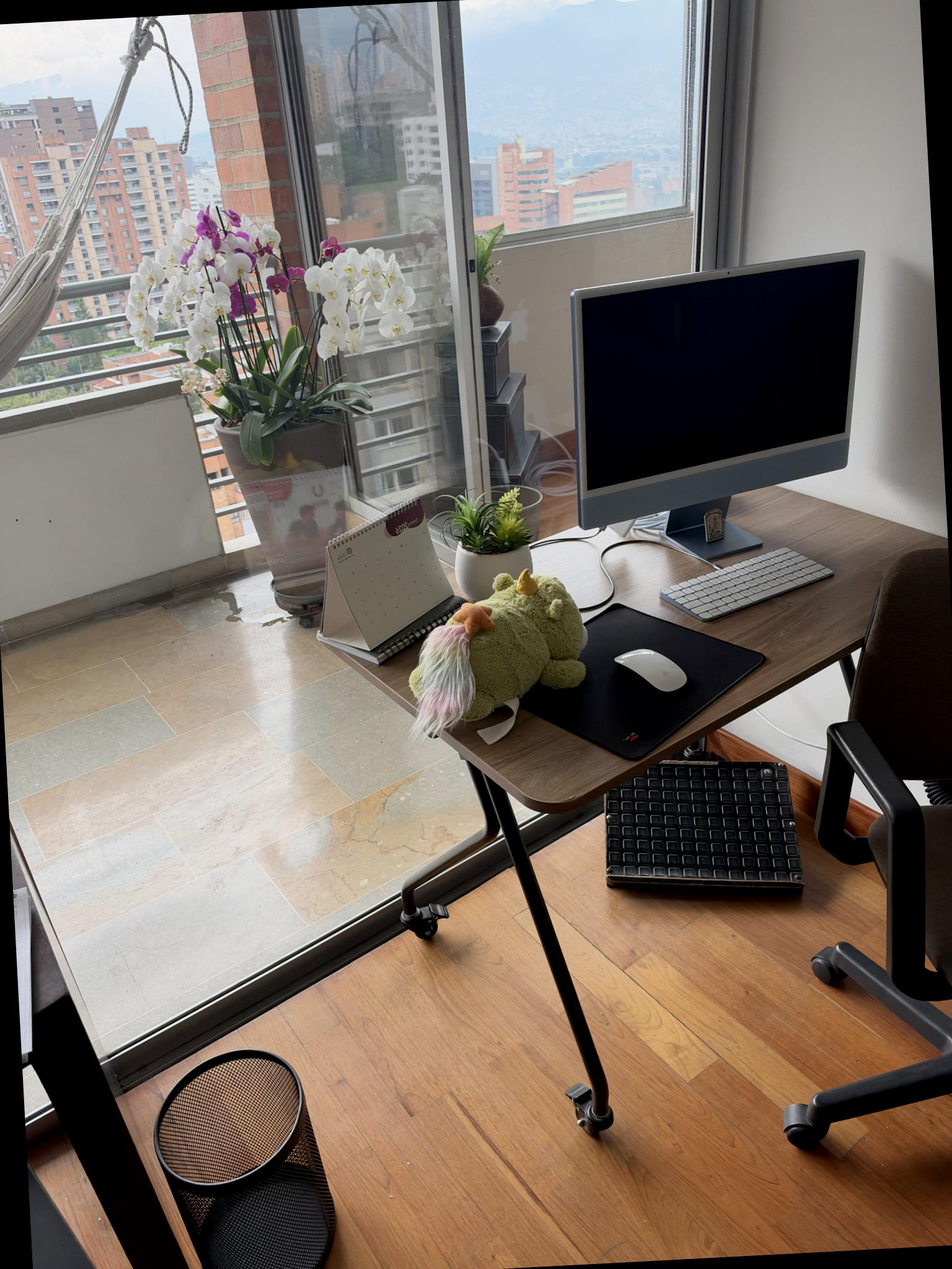peluche_martin: (396, 564, 594, 749)
